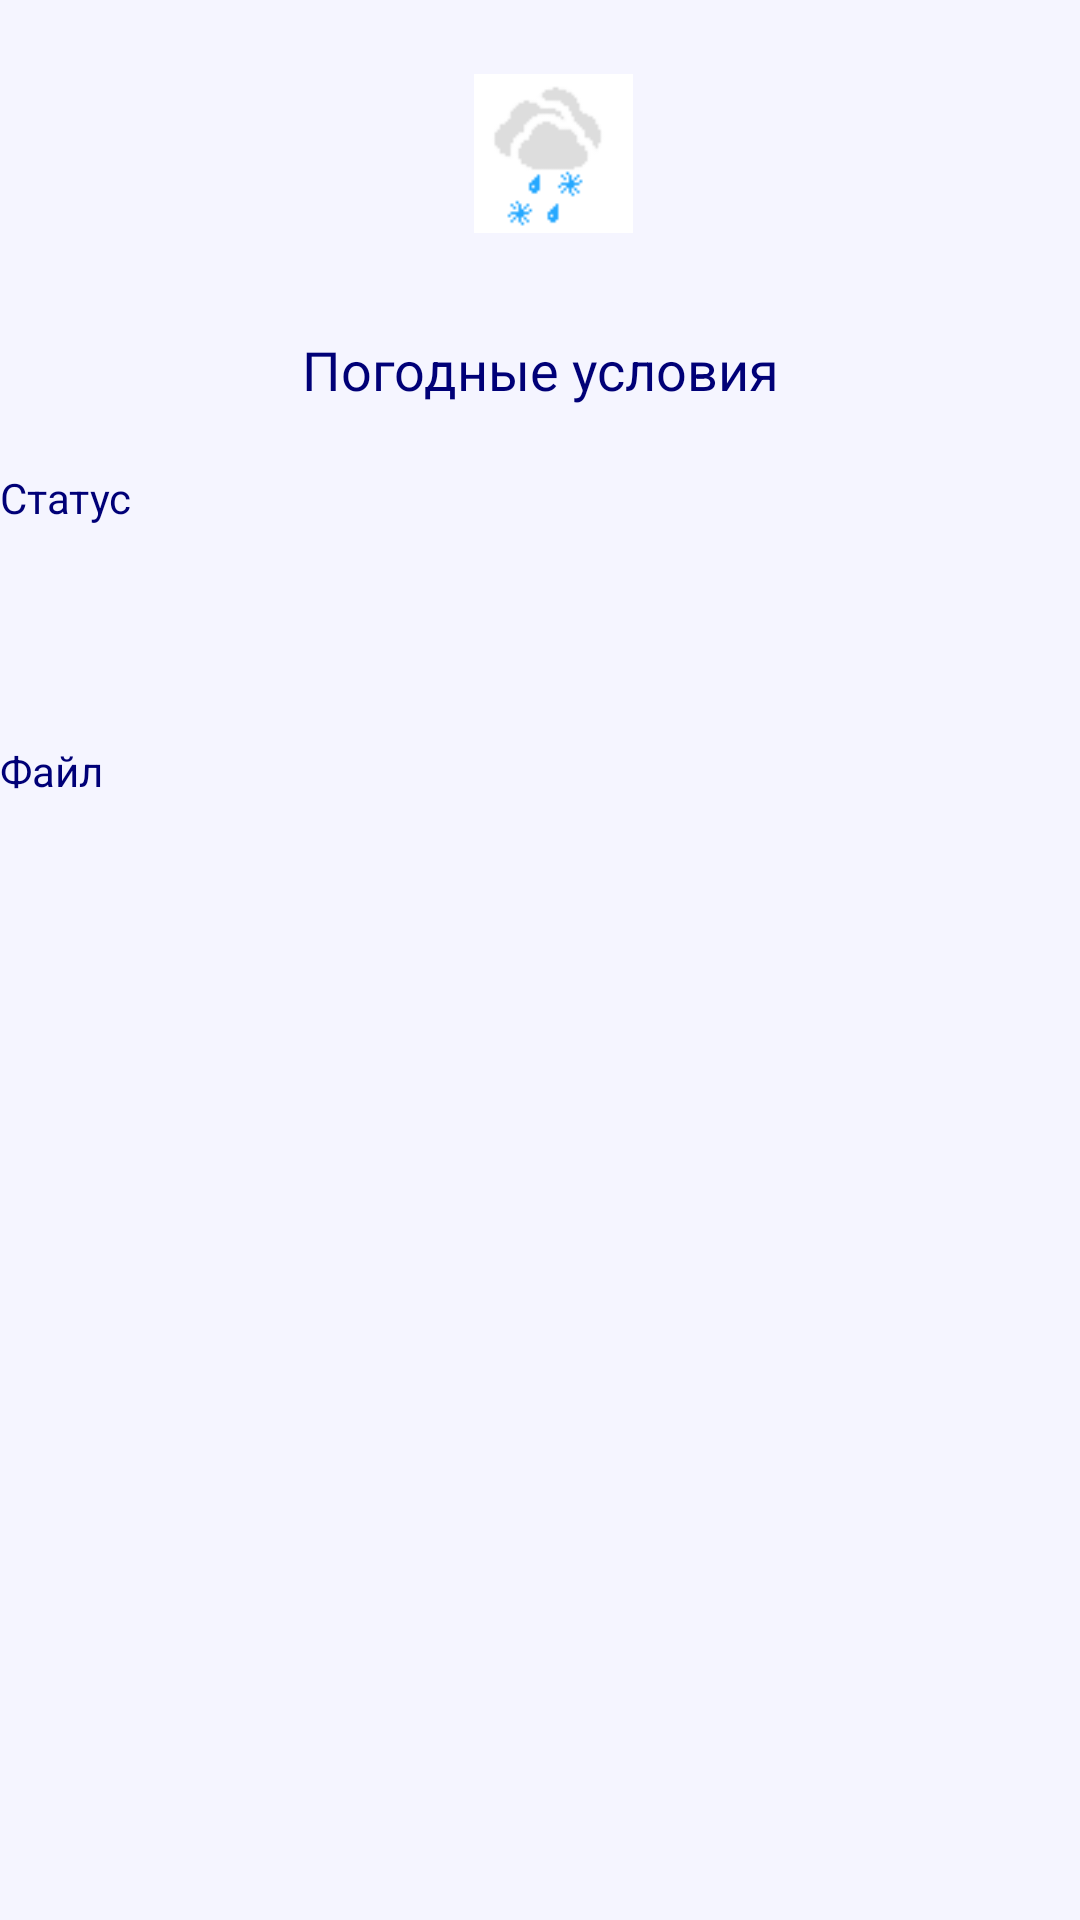

Icons on this 1080px×1920px Android screen, each with its box as region(x1, y1, x2, y2):
oblakarainsnow: region(474, 74, 633, 233)
